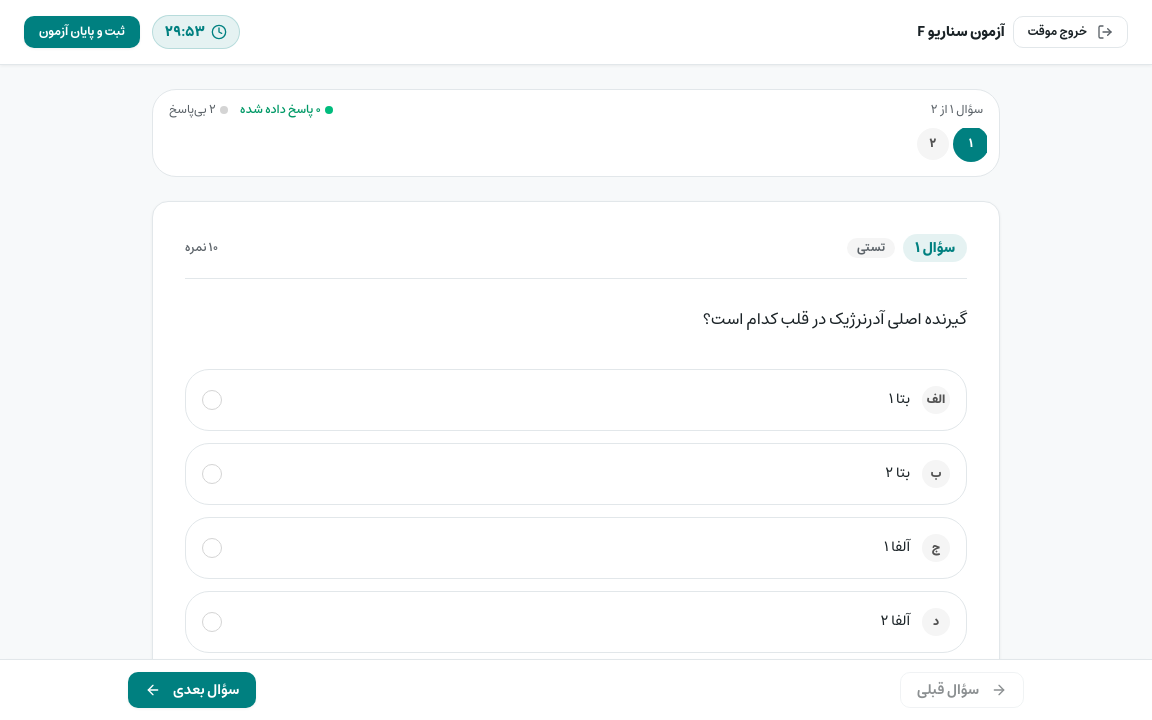
Scenario: Student Teacher Platform Exam Flow — Unit & Integration Tests › 11. Autosave & Submit Diagnostic Scenarios (A through J) › Scenario F: Malformed non-JSON 200 response throws and registers failure
The width and height of the screenshot is (1152, 720).
Step 1. Click the text "بتا ۱" → (899, 400), box [889,388,910,411]
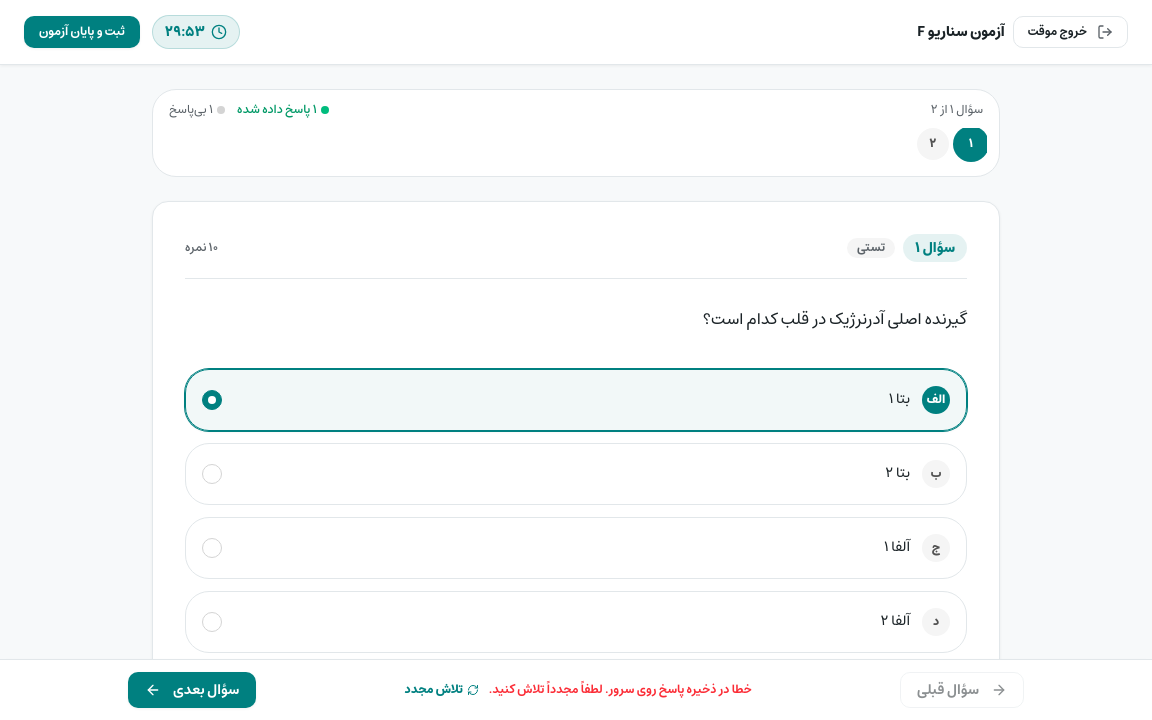
Check: the text "خطا در ذخیره پاسخ روی سرور. لطفاً مجدداً تلاش کنید." is shown, box [489,682,752,698]
